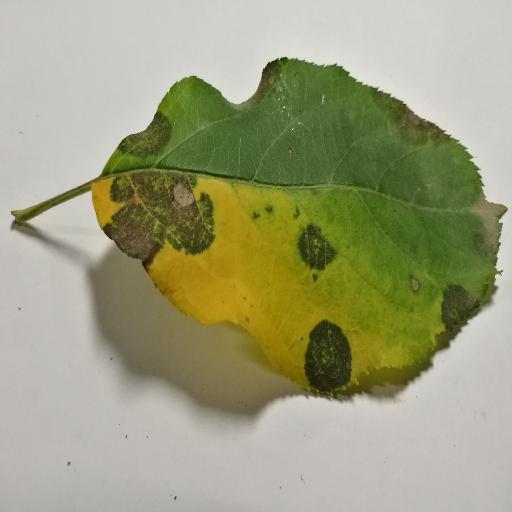Brown_Spot: (118, 186, 209, 253), (201, 57, 280, 110), (301, 323, 350, 391), (385, 97, 460, 140), (443, 284, 476, 335), (292, 232, 332, 268), (112, 130, 177, 152)
